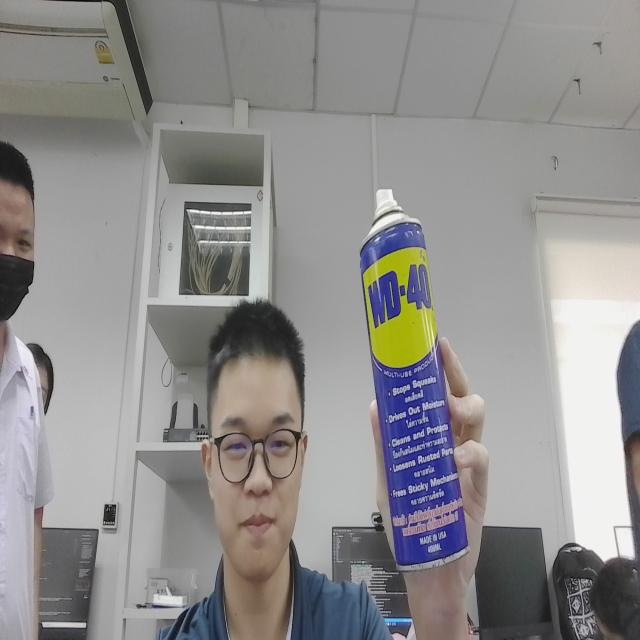wd-40: (352, 168, 476, 574)
